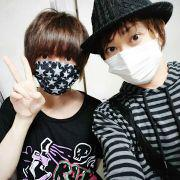OK: (104, 30, 160, 86), (34, 45, 83, 94)
